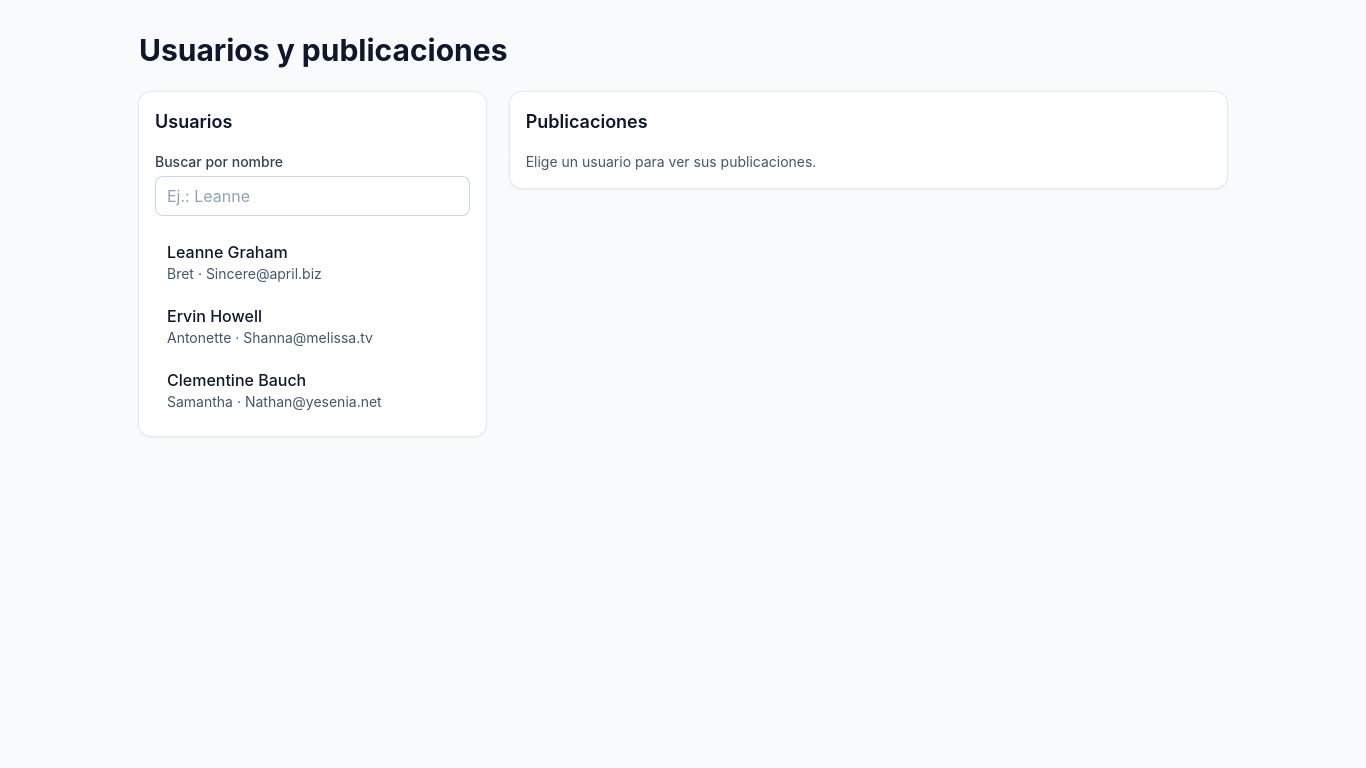
Test: create post › disables the button while publishing
Later steps or results of the test are not shown.
Click the button "Leanne Graham Bret · Sincere@april.biz" at (312, 262), box [155,232,470,292]
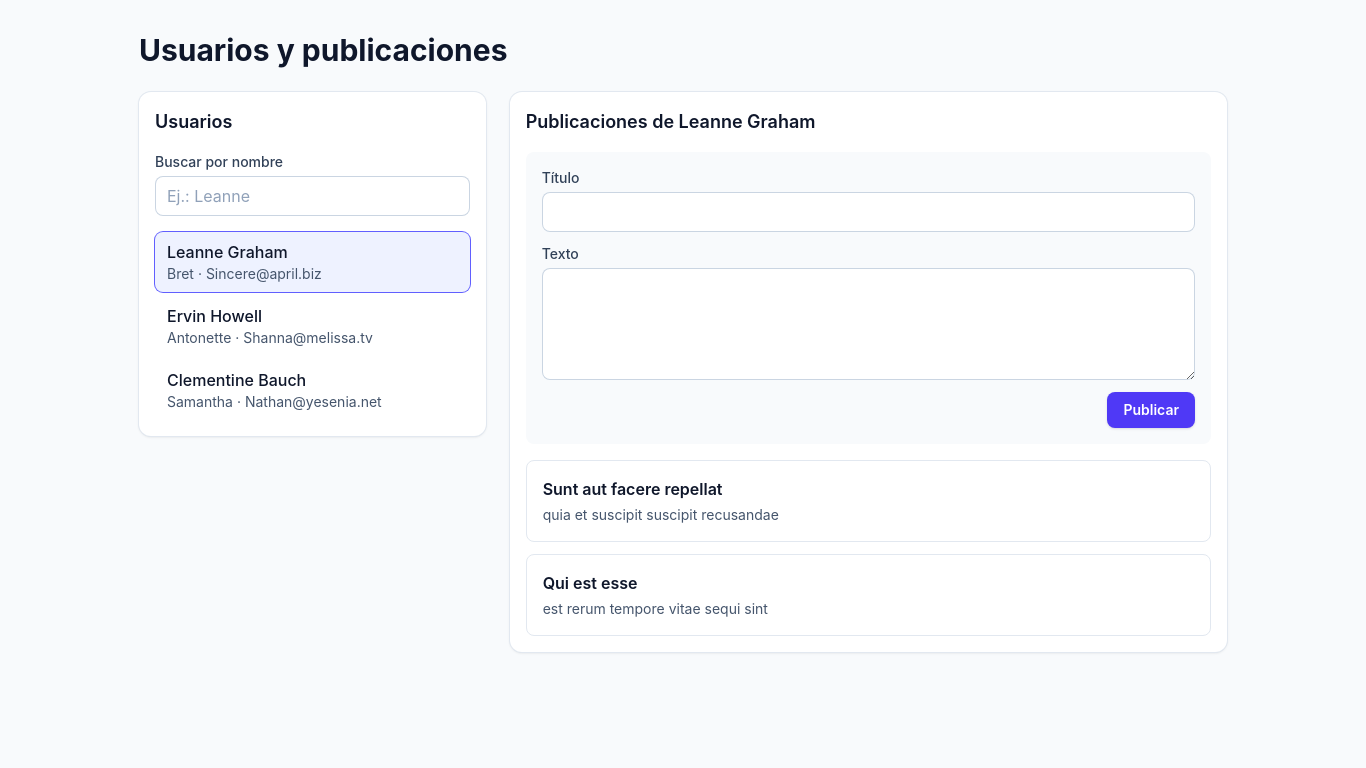
Type "Título" into the field labelled "Título" at (868, 212), box [542,192,1195,232]
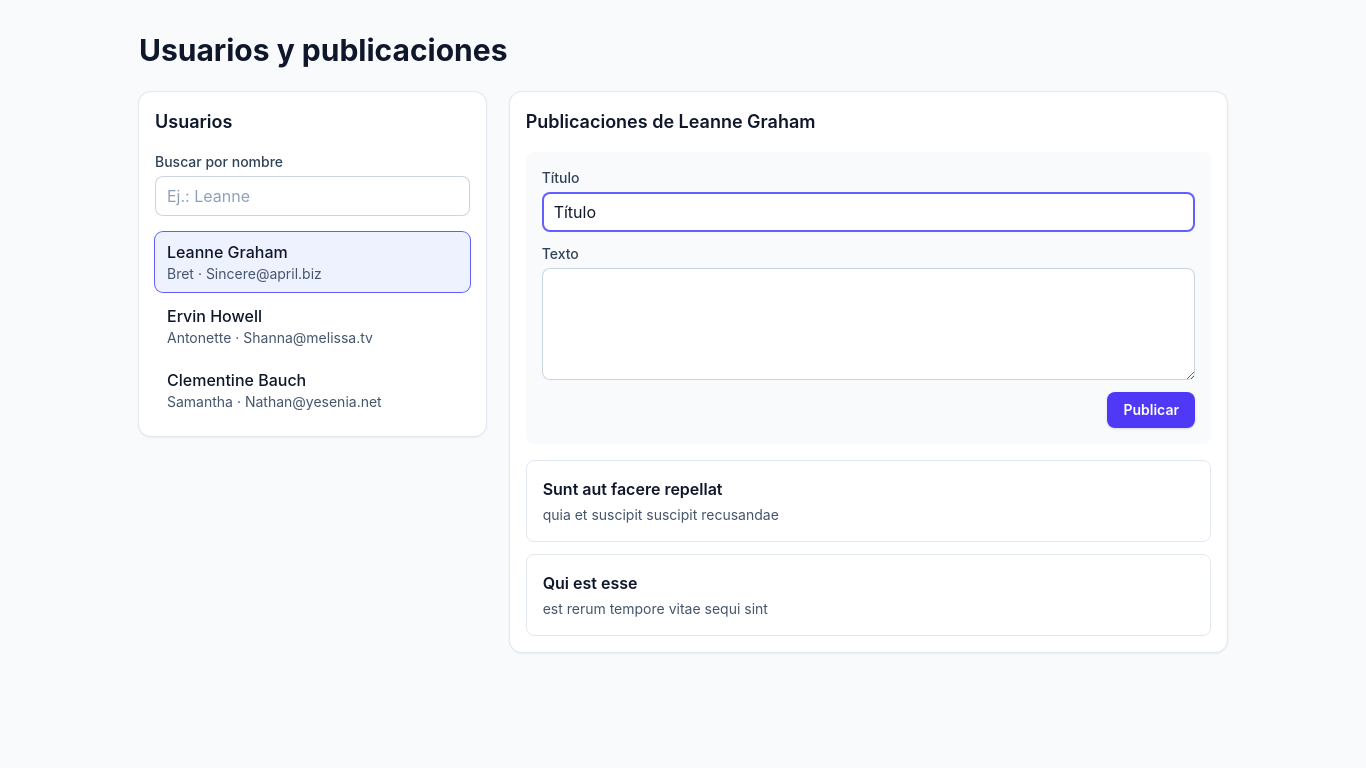
Type "Texto" into the text box labelled "Texto" at (868, 324), box [542,268,1195,380]
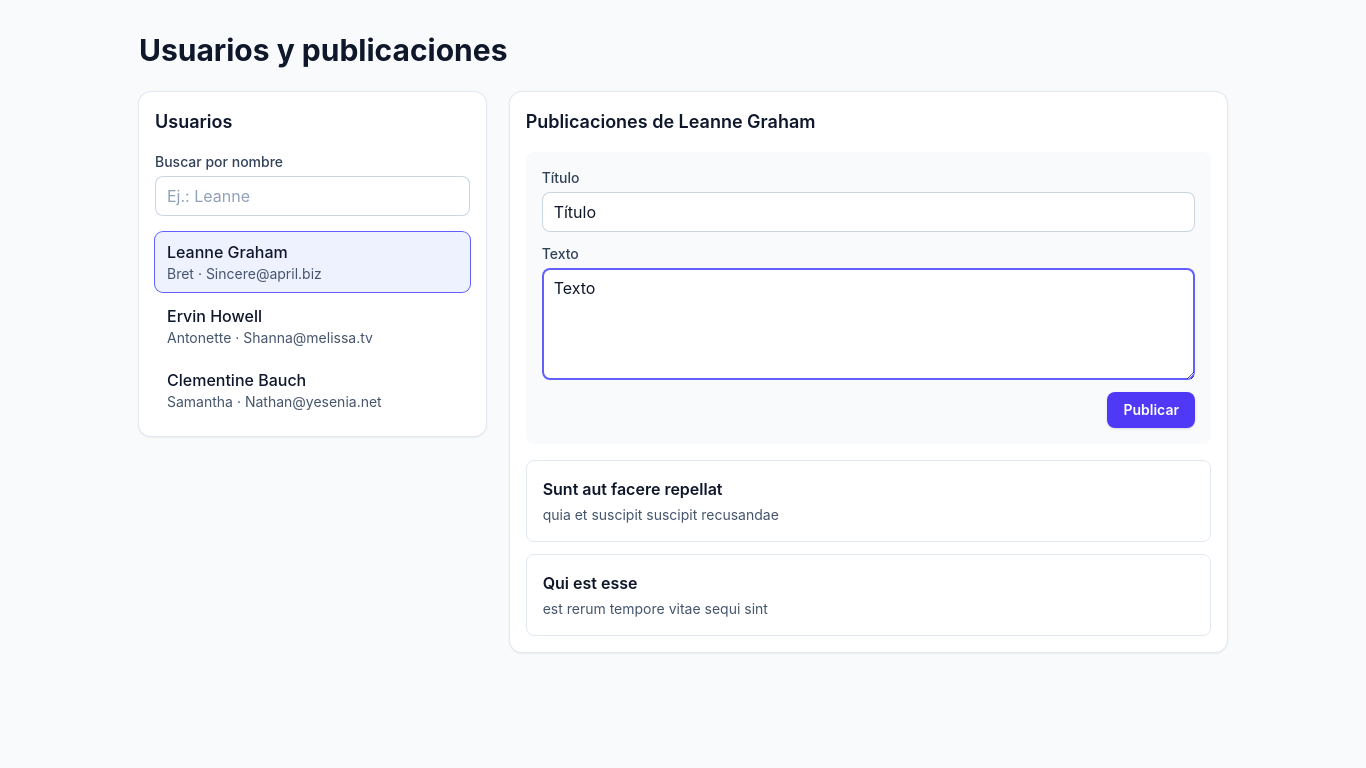
Click the button "Publicar" at (1151, 410), box [1107,392,1195,428]
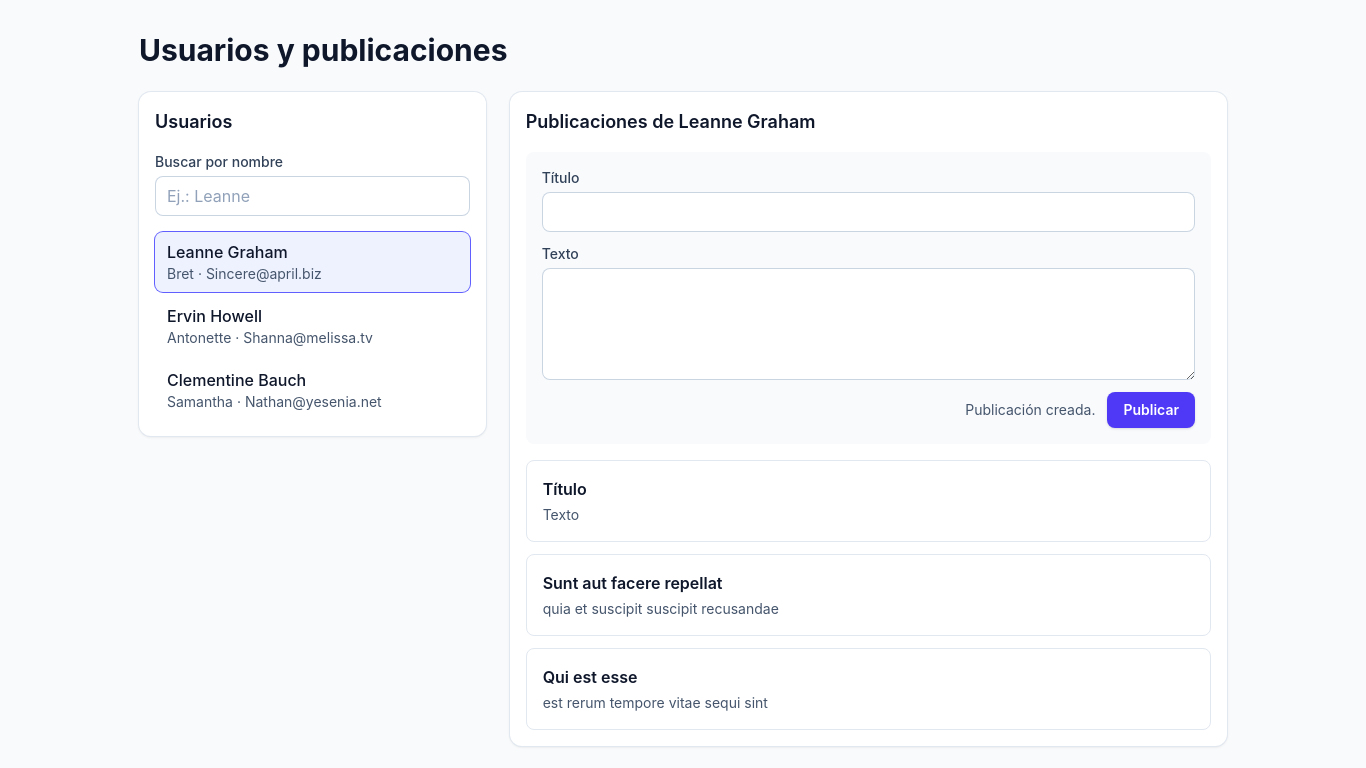
Expected: the text "Publicación creada." is shown, [965,400,1095,420]
